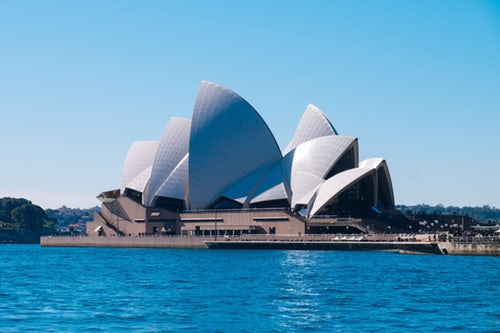opera house: (49, 63, 446, 252)
